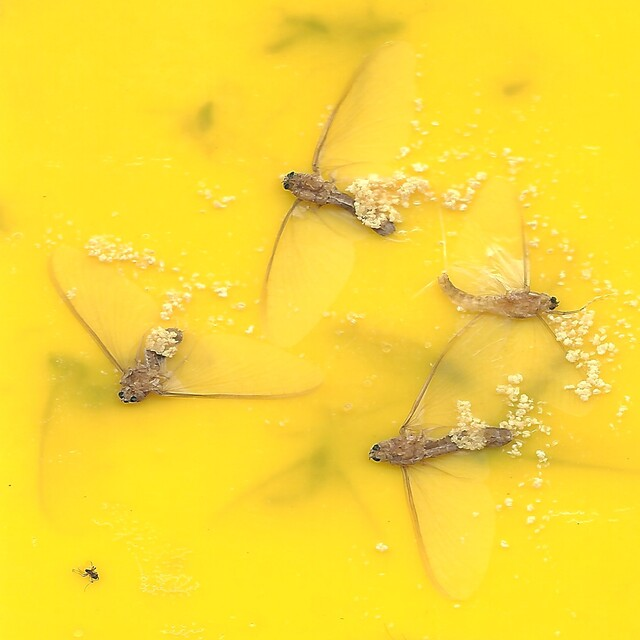Ephemeroptera: (259, 37, 411, 348), (369, 311, 524, 603), (46, 249, 323, 403), (440, 174, 594, 380)
